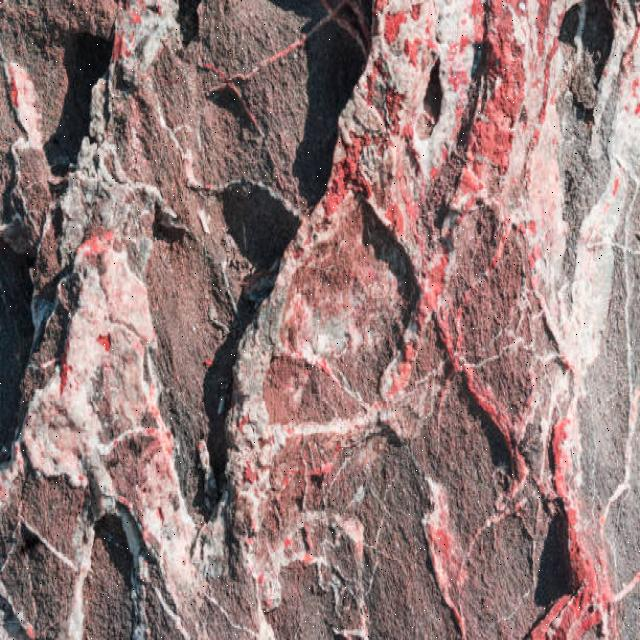Sedimentary: (1, 2, 639, 635)
